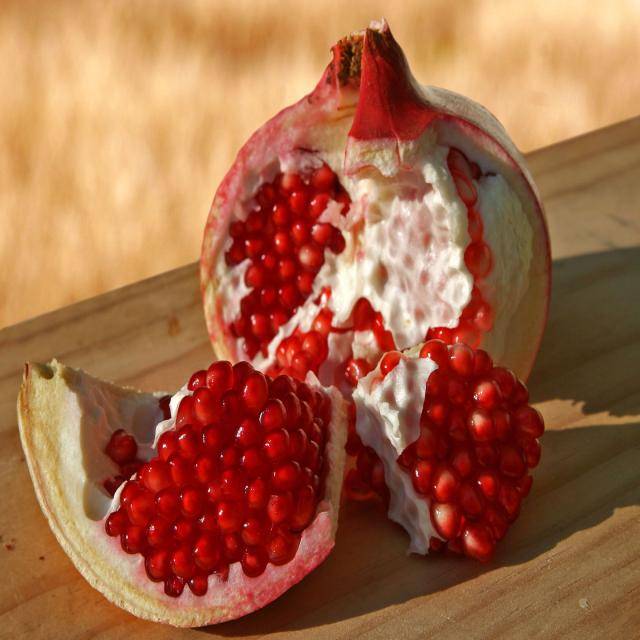Pomegranate: (200, 22, 550, 560), (105, 363, 330, 597), (109, 398, 220, 595), (104, 428, 142, 495), (159, 395, 171, 419)
